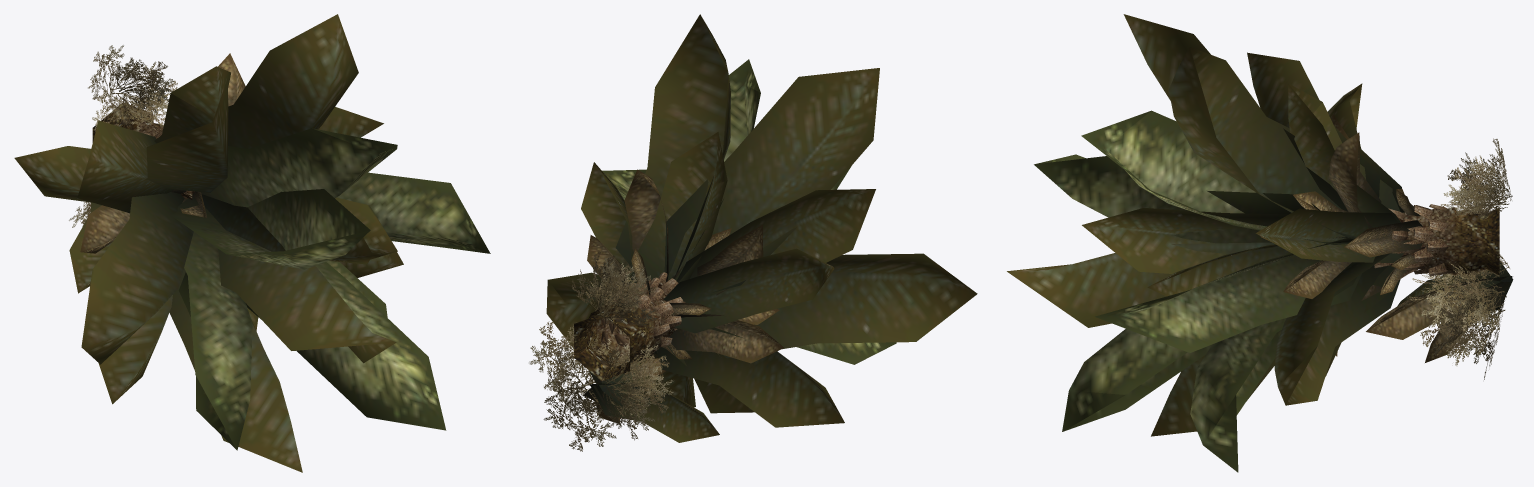
File: tdr_v_palm_d.obj
3 views of the same model, side by side, from view 1: azimuth 30°, elevation 25°; view 2: azimuth 150°, elevation 25°; view 3: azimuth 270°, elevation 25° (orthographic). The views are drawn at different scales.
Visible parts, largest first — view 1: tdr_v_palm_d; view 2: tdr_v_palm_d; view 3: tdr_v_palm_d.
Part boxes in pixels (x1,y1,x2,y2): tdr_v_palm_d: (14, 14, 490, 472); tdr_v_palm_d: (529, 14, 977, 451); tdr_v_palm_d: (1007, 14, 1513, 472).
Bounding box in the file's own units: 1199 × 1253 × 1401.
Materials: 4 (4 with a texture image).
